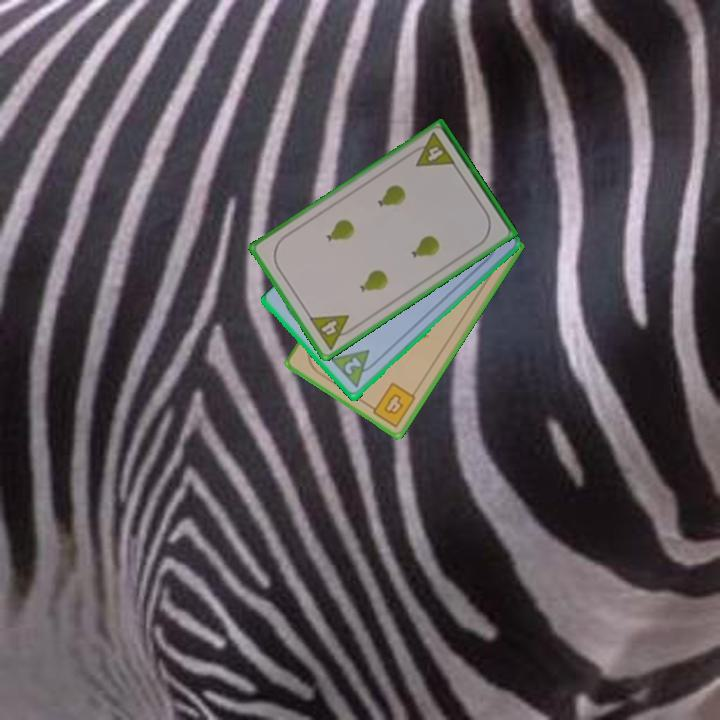2p: (328, 346, 381, 392)
4b: (364, 379, 419, 430)
4p: (305, 311, 359, 353), (406, 129, 458, 170)
